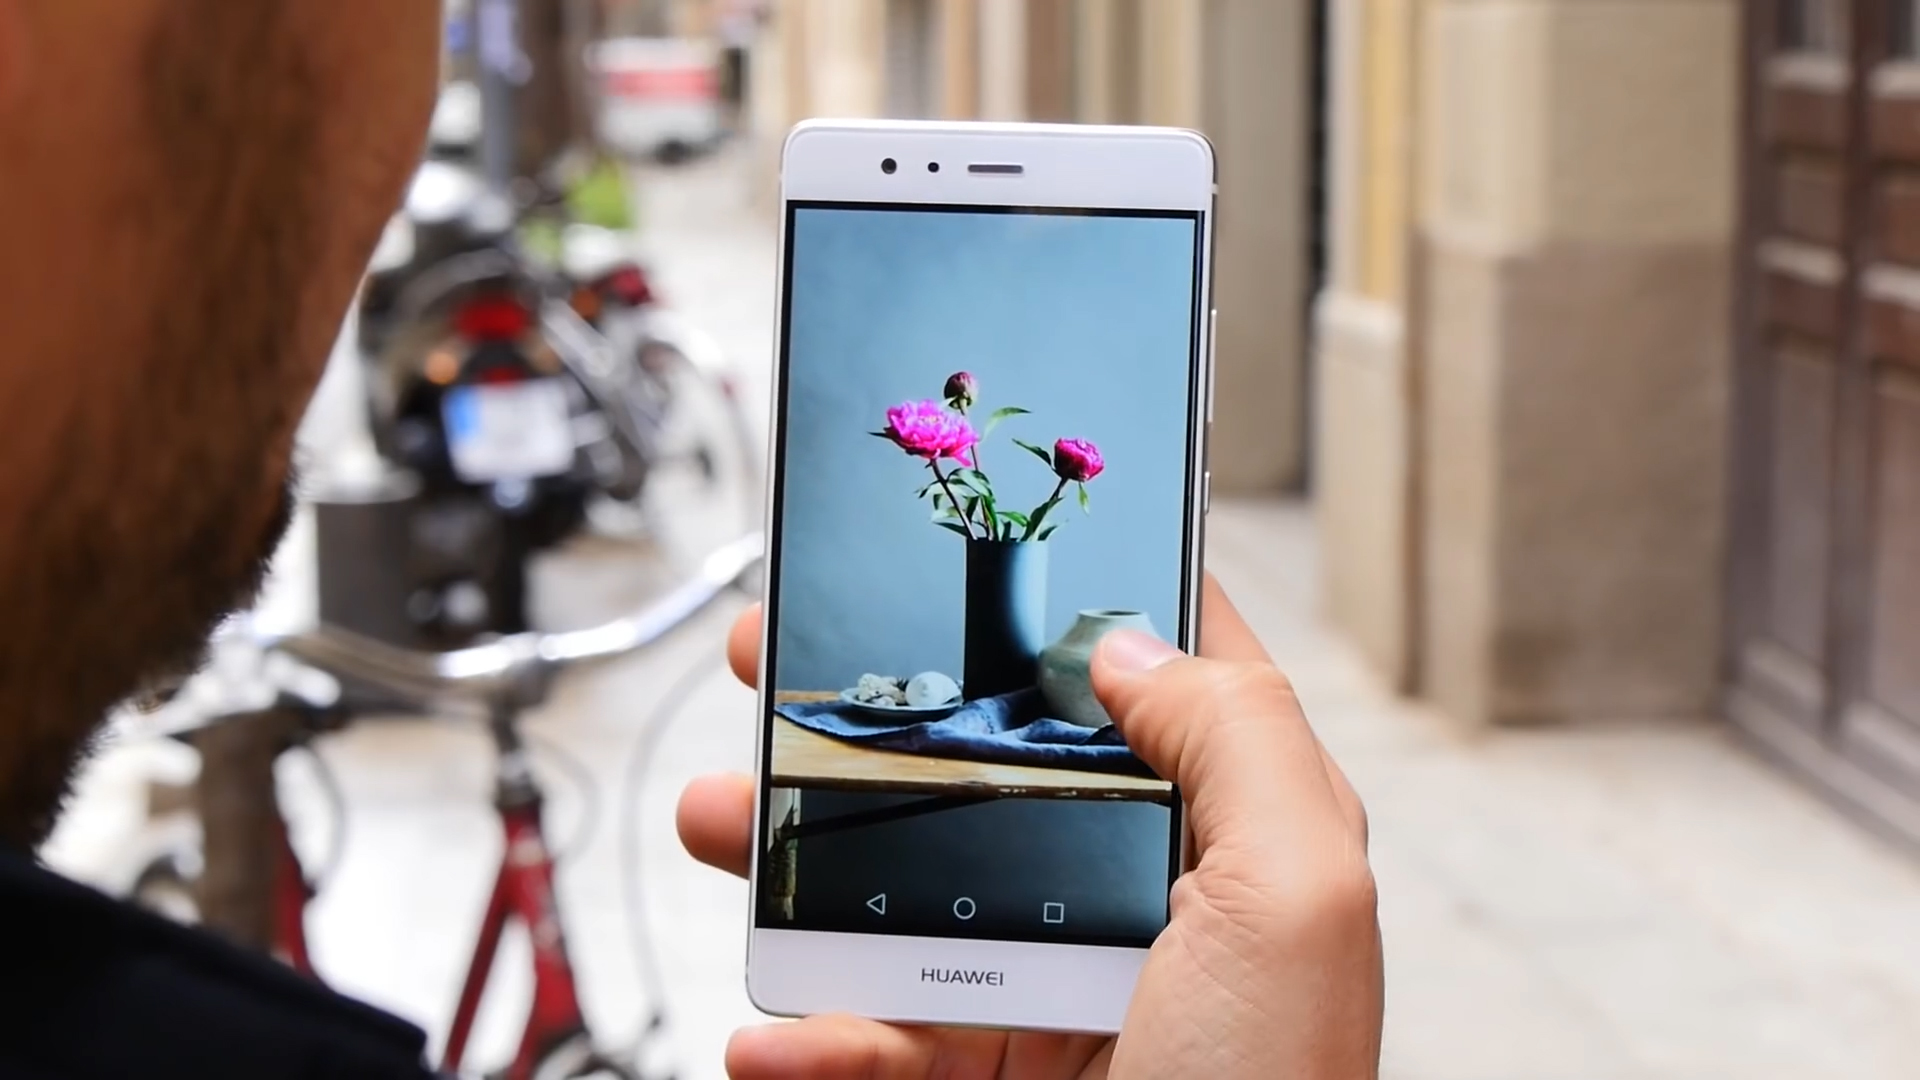smartphone: (741, 109, 1224, 1044)
